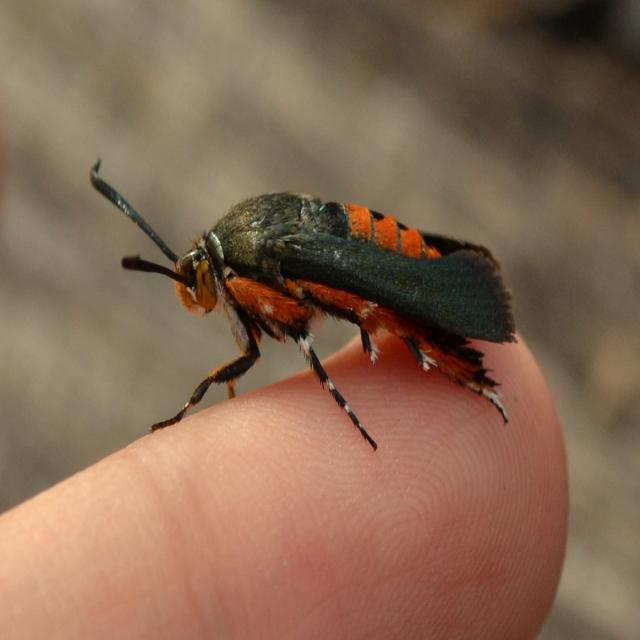squash_vine_borer: (79, 130, 526, 466)
